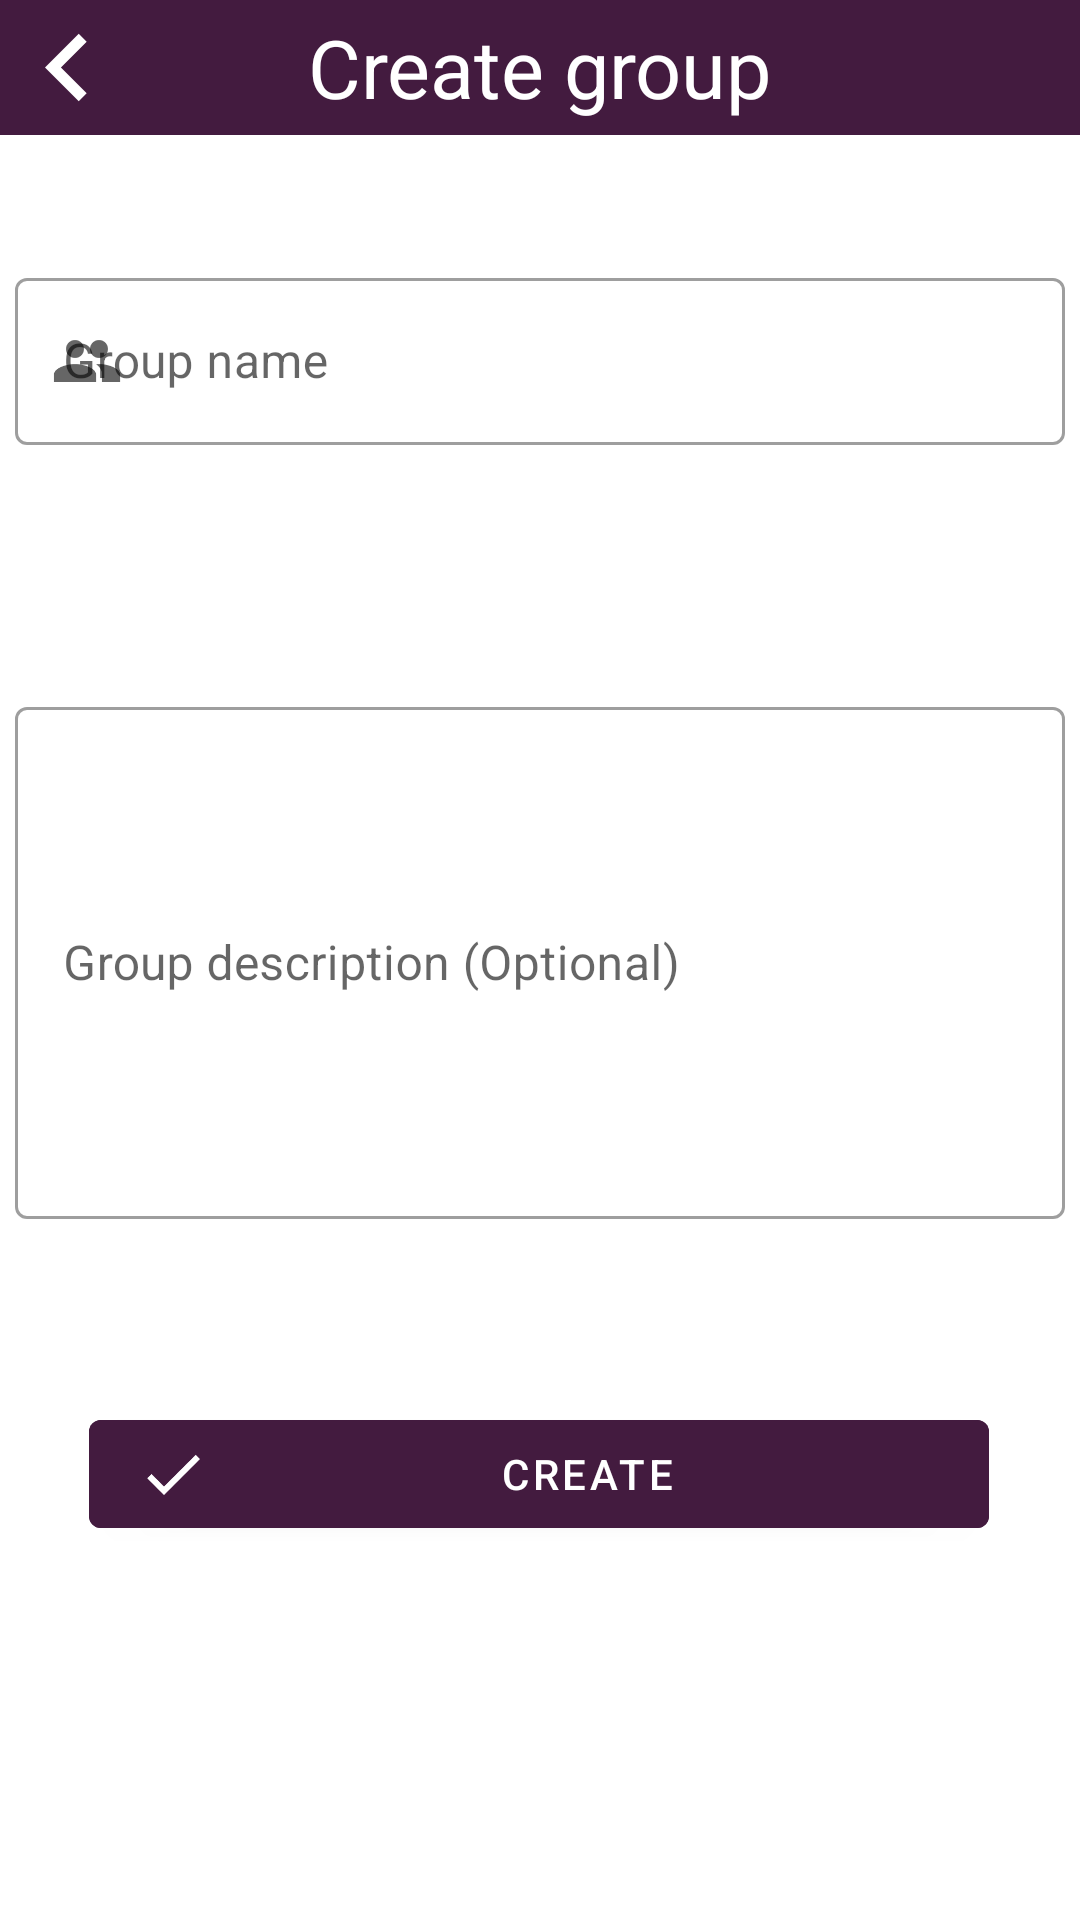

Screen size 1080px x 1920px. Icon name, then its center in pixels as [x,y]:
chevron left: [66,67]
